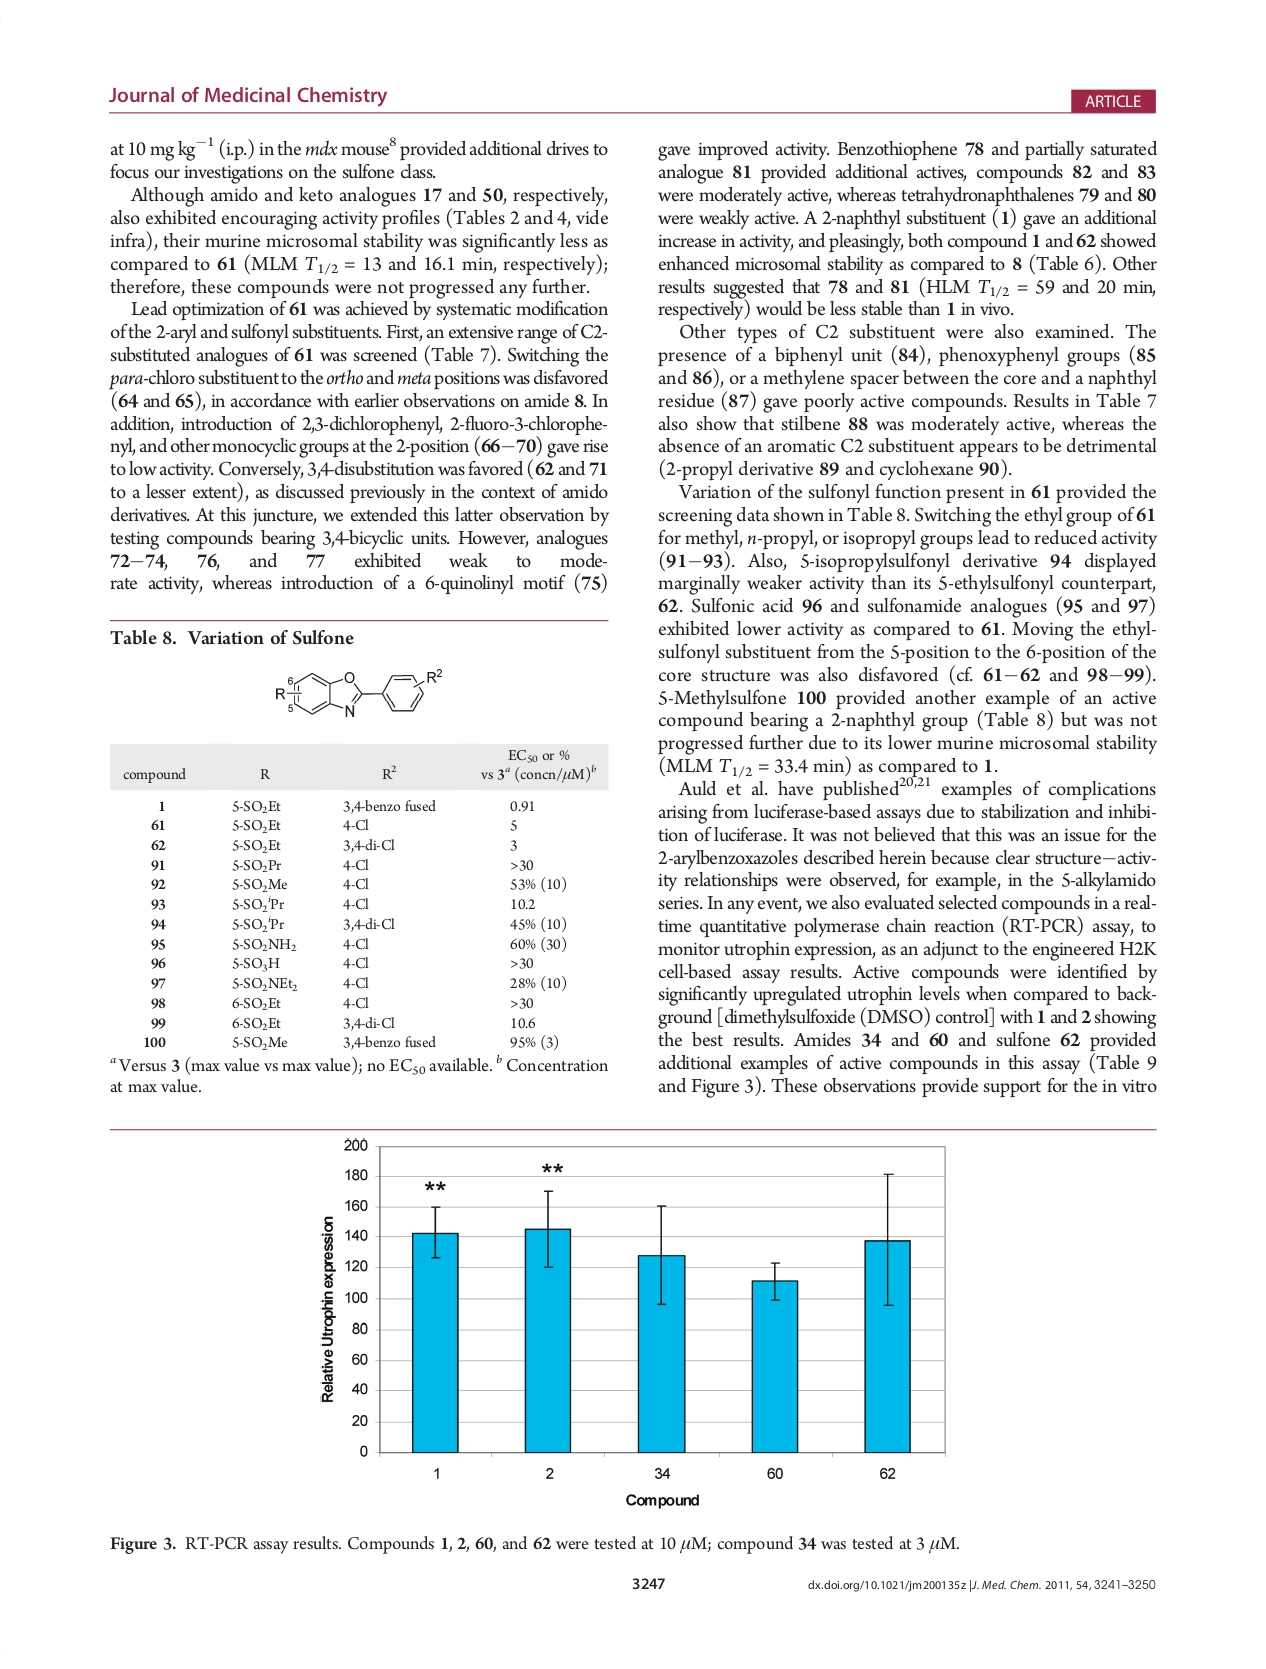exist_molecular: (267, 662, 448, 721)
